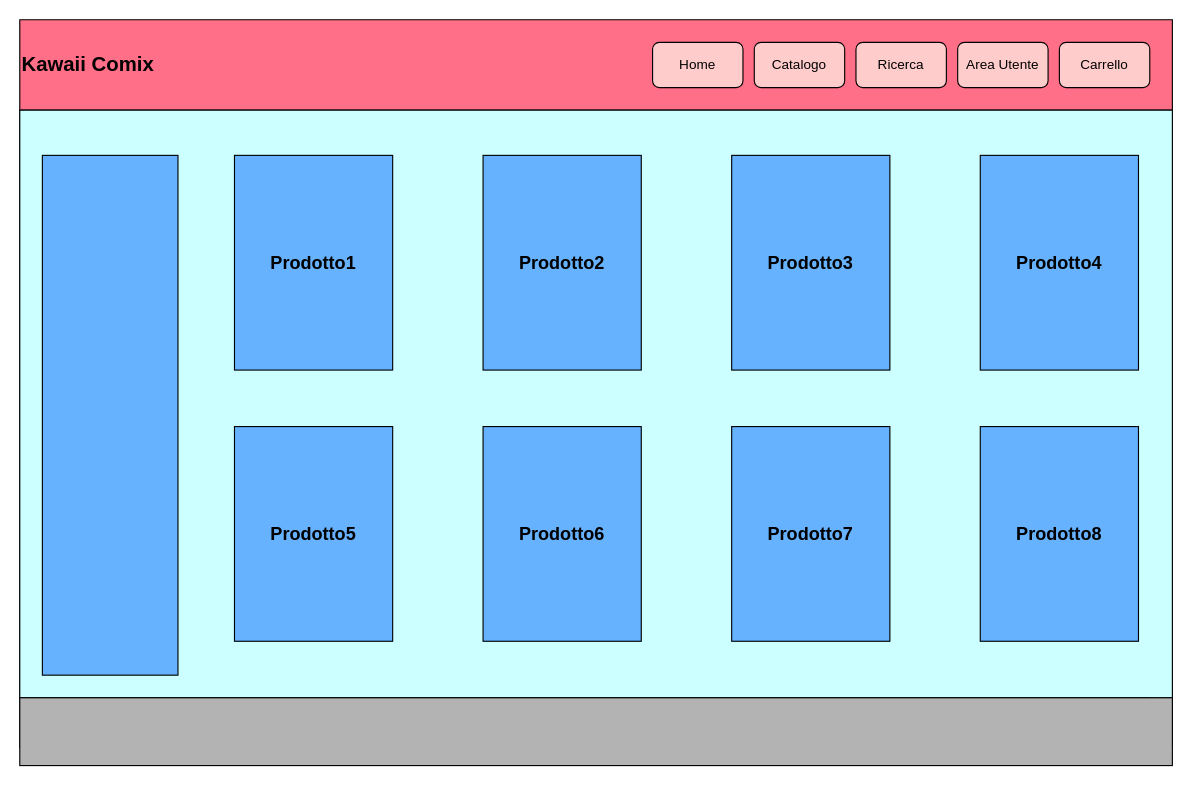
Some shapes in this 1192 by 785 pixel diagram are drawn without their labels. The centre of each missing label's shape, as x and y in pixels:
Filtri: the point at 109,414
Footer: the point at 595,731
